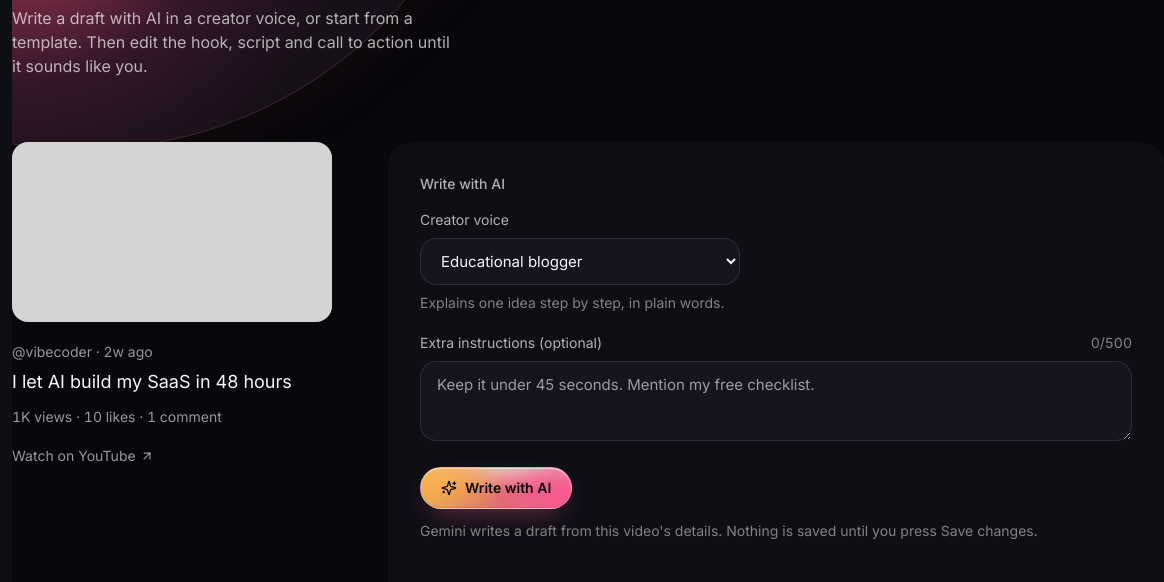
Scenario: Remember the last voice › a failed write stores nothing
Check: the heading "Write with AI" is shown, box 420,175 -> 505,192
Select "Entertainer" in the dropdown labelled "Creator voice" at (580, 262), box 420,238 -> 740,285
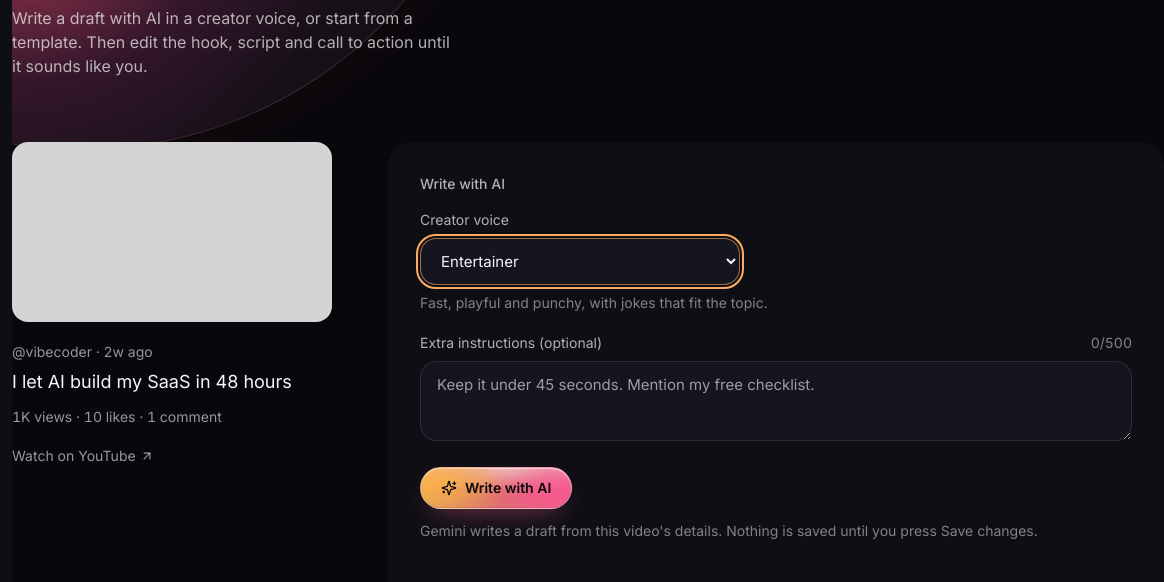
Click the button "Write with AI".
click(496, 488)  # box 420,467 -> 572,509
(page scrolled)
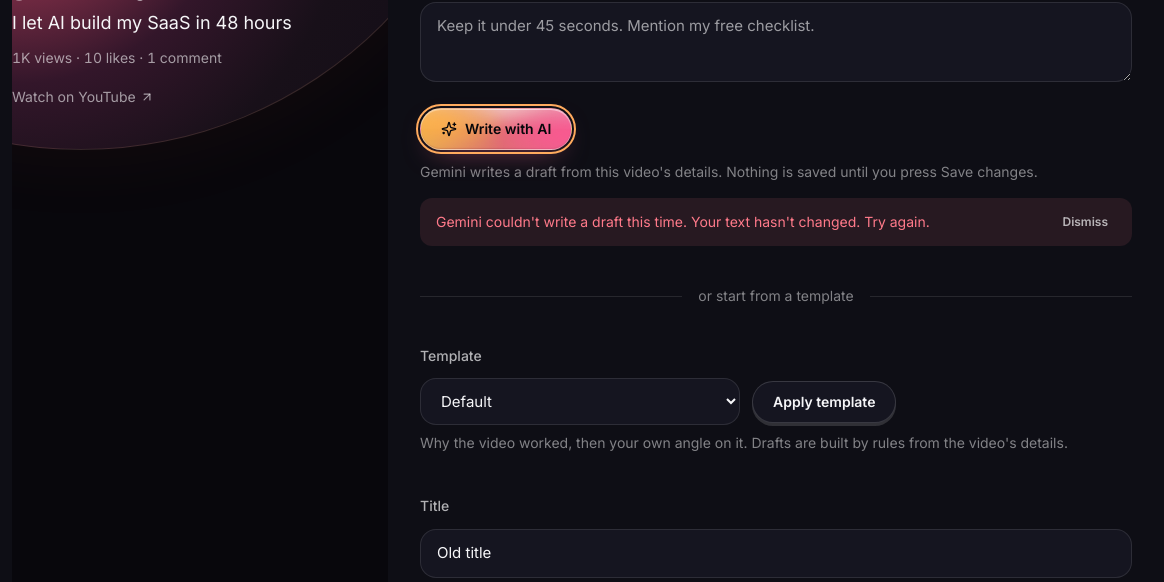
Check: the text "Gemini couldn't write a draft this time. Your text hasn't changed. Try again." is shown, box 436,212 -> 930,232
